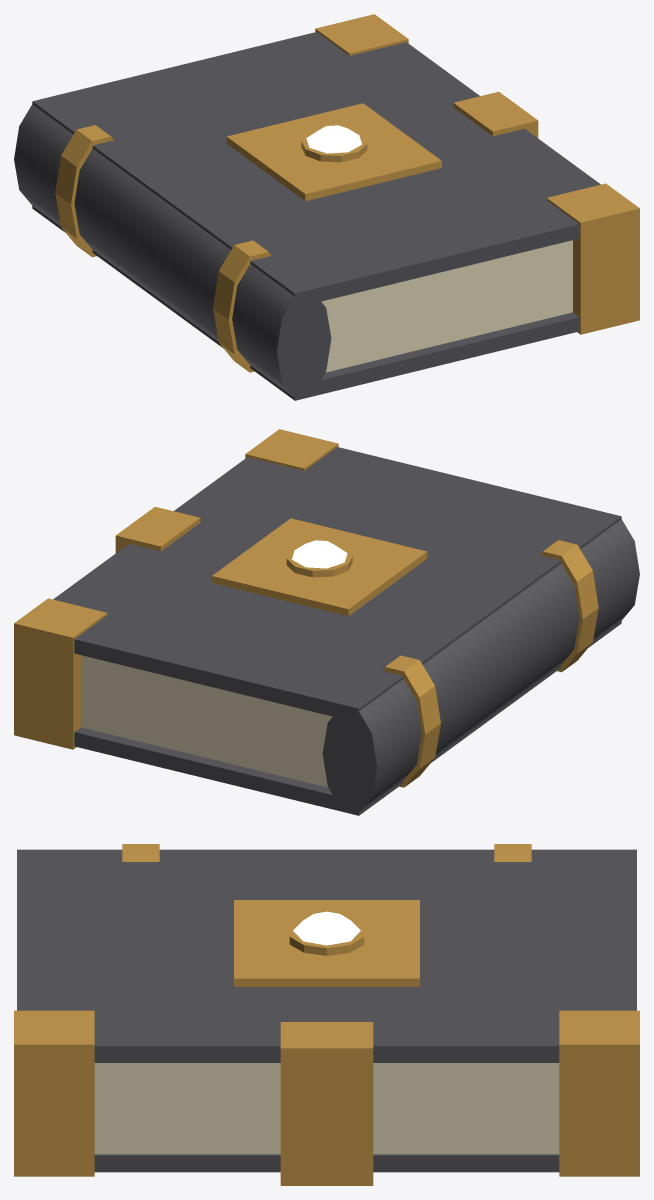
The model's file is tome_piercing.glb.
The picture shows the model from 3 angles, top to bottom: view 1: azimuth 30°, elevation 25°; view 2: azimuth 150°, elevation 25°; view 3: azimuth 270°, elevation 25°; orthographic projection. The views are drawn at different scales.
Parts seen in each view (by area): view 1: Tome_Piercing_Tome_piercing, Tome_Piercing_Brass, Tome_Piercing_Paper, Tome_Piercing_Gem_piercing; view 2: Tome_Piercing_Tome_piercing, Tome_Piercing_Brass, Tome_Piercing_Paper, Tome_Piercing_Gem_piercing; view 3: Tome_Piercing_Tome_piercing, Tome_Piercing_Brass, Tome_Piercing_Paper, Tome_Piercing_Gem_piercing.
Part boxes in pixels (bbox=[...]): Tome_Piercing_Tome_piercing: bbox=[14, 32, 600, 400]; Tome_Piercing_Brass: bbox=[55, 14, 639, 372]; Tome_Piercing_Paper: bbox=[321, 240, 572, 372]; Tome_Piercing_Gem_piercing: bbox=[306, 125, 361, 153]; Tome_Piercing_Tome_piercing: bbox=[53, 447, 639, 815]; Tome_Piercing_Brass: bbox=[14, 429, 598, 787]; Tome_Piercing_Paper: bbox=[81, 655, 332, 787]; Tome_Piercing_Gem_piercing: bbox=[292, 540, 347, 568]; Tome_Piercing_Tome_piercing: bbox=[17, 849, 636, 1172]; Tome_Piercing_Brass: bbox=[14, 844, 639, 1185]; Tome_Piercing_Paper: bbox=[94, 1063, 559, 1154]; Tome_Piercing_Gem_piercing: bbox=[293, 911, 360, 945].
Bounding box in the file's own units: 0.1655 × 0.0571 × 0.202.
